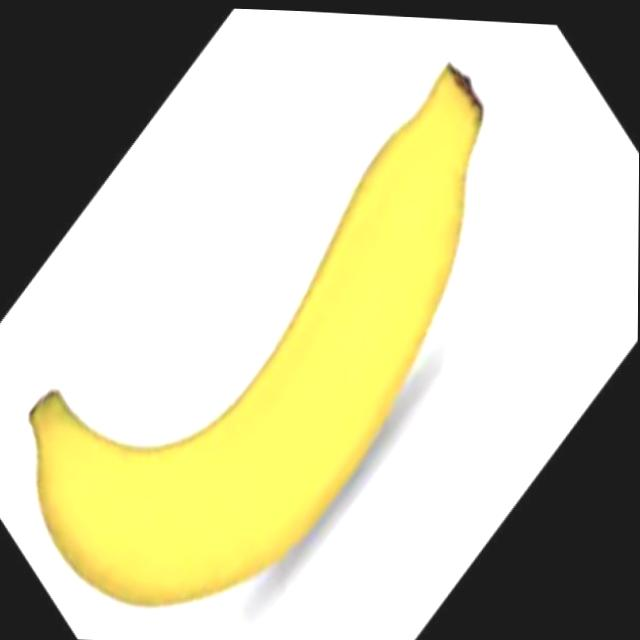Banana: (22, 37, 485, 621)
